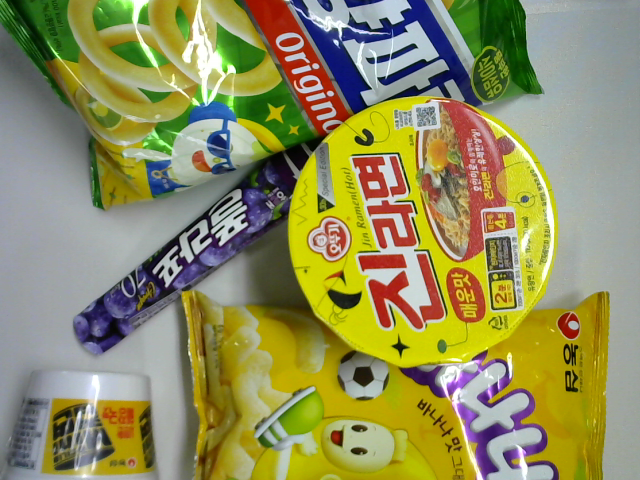Banana_Kick: (178, 289, 611, 480)
Hejangmini: (4, 365, 166, 480)
Jinlamyeon_Hot_Taste_Large_Cup: (286, 90, 558, 371)
Oninon_Ring: (1, 1, 546, 211)
Polapo_Grape: (70, 141, 314, 360)
